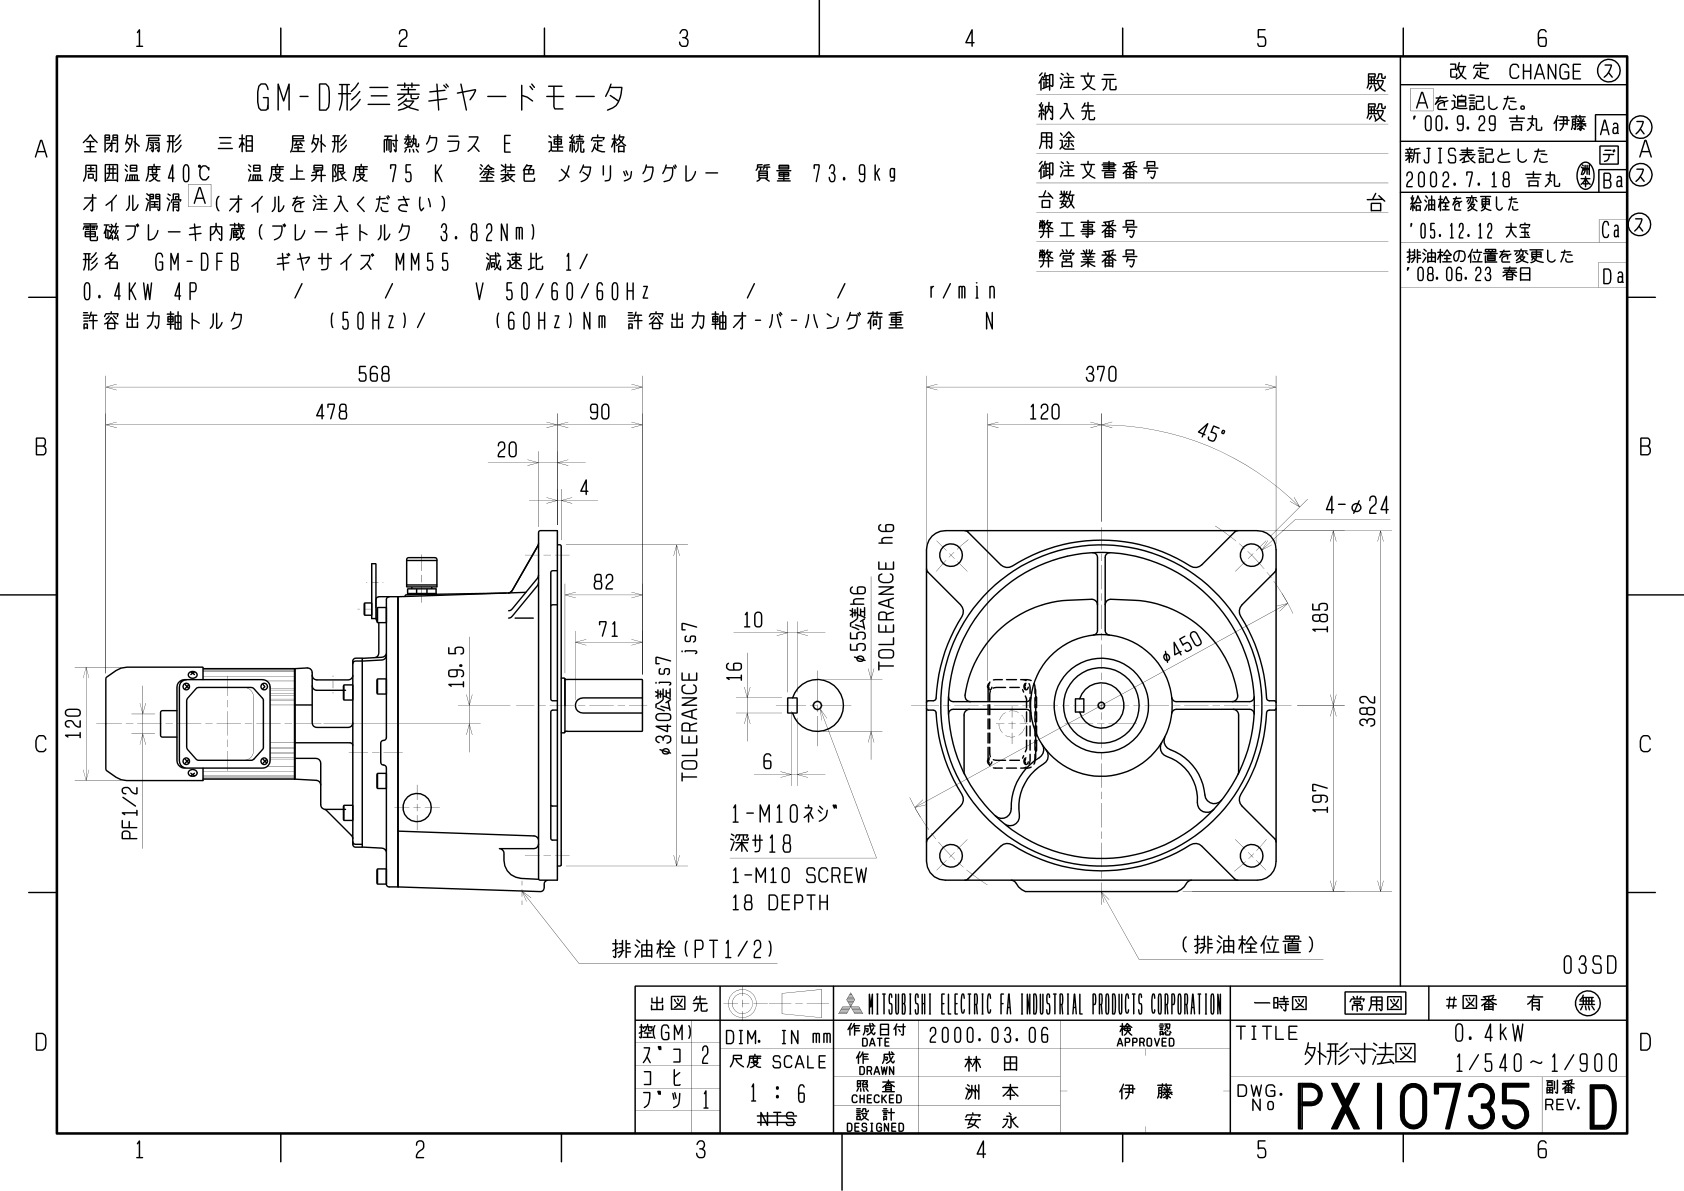GM_D_屋外＿三相_フランジ: (61, 349, 1397, 971)
